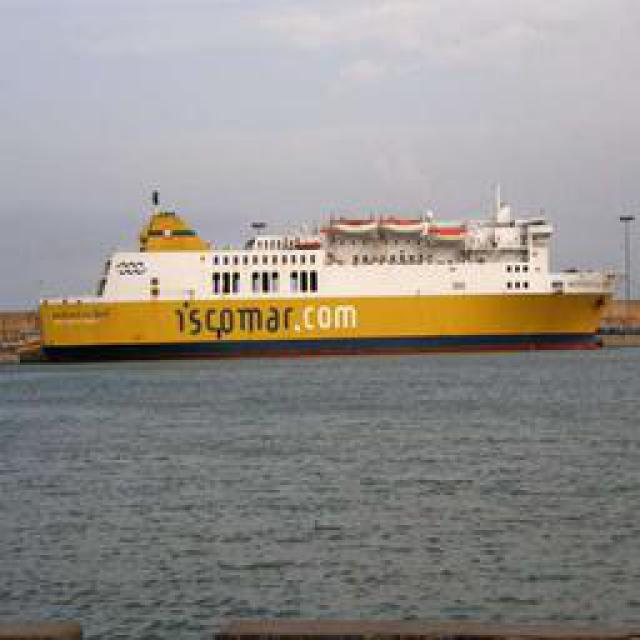Ship: (46, 181, 609, 359)
